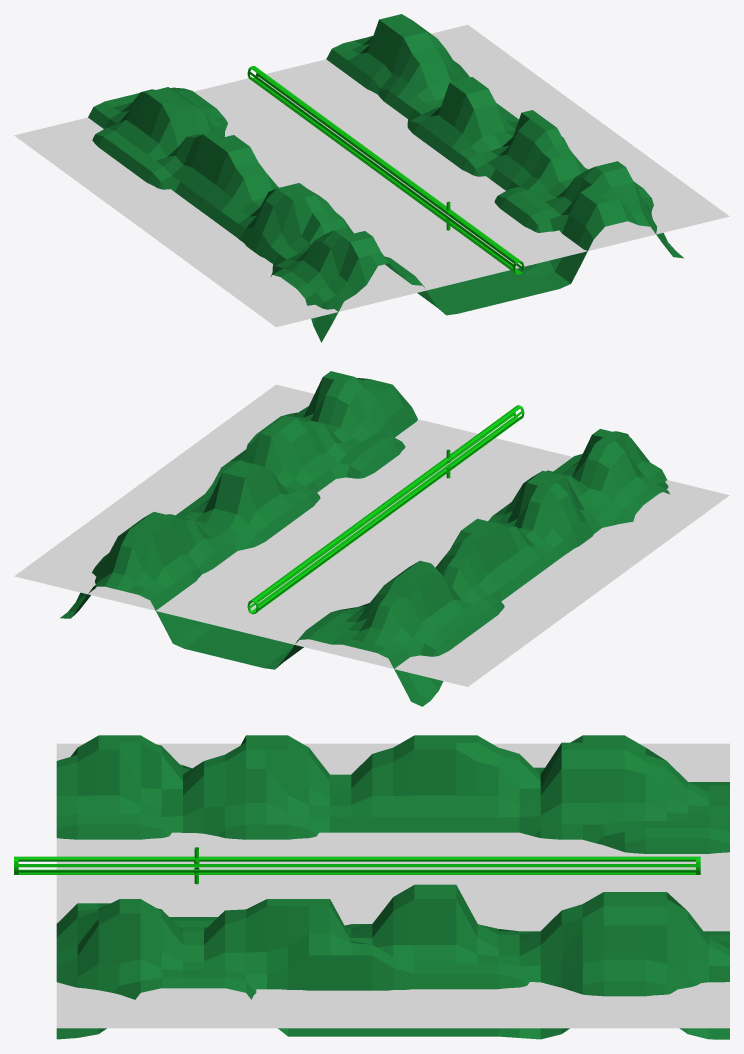
The model's file is Bird_Map.fbx.
3 renders of one model, top to bottom at view 1: azimuth 30°, elevation 25°; view 2: azimuth 150°, elevation 25°; view 3: azimuth 270°, elevation 25°, orthographic. The views are drawn at different scales.
Visible parts, largest first — view 1: Plane.001, Plane, Cylinder.002; view 2: Plane, Plane.001, Cylinder.002; view 3: Plane, Plane.001, Cylinder.002.
Part boxes in pixels (bbox=[...]): Plane.001: bbox=[14, 24, 729, 327]; Plane: bbox=[88, 14, 683, 342]; Cylinder.002: bbox=[247, 66, 524, 274]; Plane: bbox=[60, 371, 669, 706]; Plane.001: bbox=[14, 384, 729, 686]; Cylinder.002: bbox=[247, 405, 524, 614]; Plane: bbox=[56, 735, 729, 1039]; Plane.001: bbox=[56, 743, 729, 1028]; Cylinder.002: bbox=[14, 856, 700, 874].
Size of the model in its own units: 60000 by 10320 by 63794.
